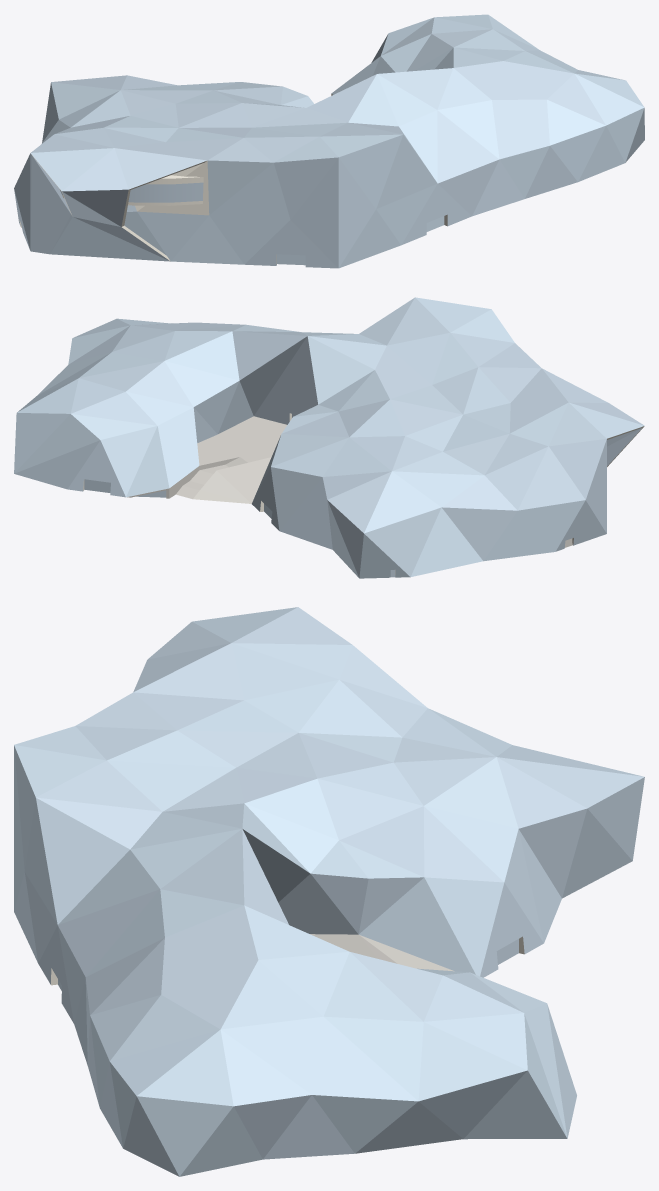
3 renders of one model, top to bottom at view 1: azimuth 30°, elevation 25°; view 2: azimuth 150°, elevation 25°; view 3: azimuth 270°, elevation 25°, orthographic. The views are drawn at different scales.
Parts seen in each view (by area): view 1: 70030076203820556lod; view 2: 70030076203820556lod; view 3: 70030076203820556lod.
Part boxes in pixels (x1,y1,x2,y2): 70030076203820556lod: (14, 14, 644, 268); 70030076203820556lod: (14, 297, 644, 578); 70030076203820556lod: (14, 607, 644, 1176).
Size of the model in its own units: 144 by 26.47 by 90.42.
1 material, 1 textured.
